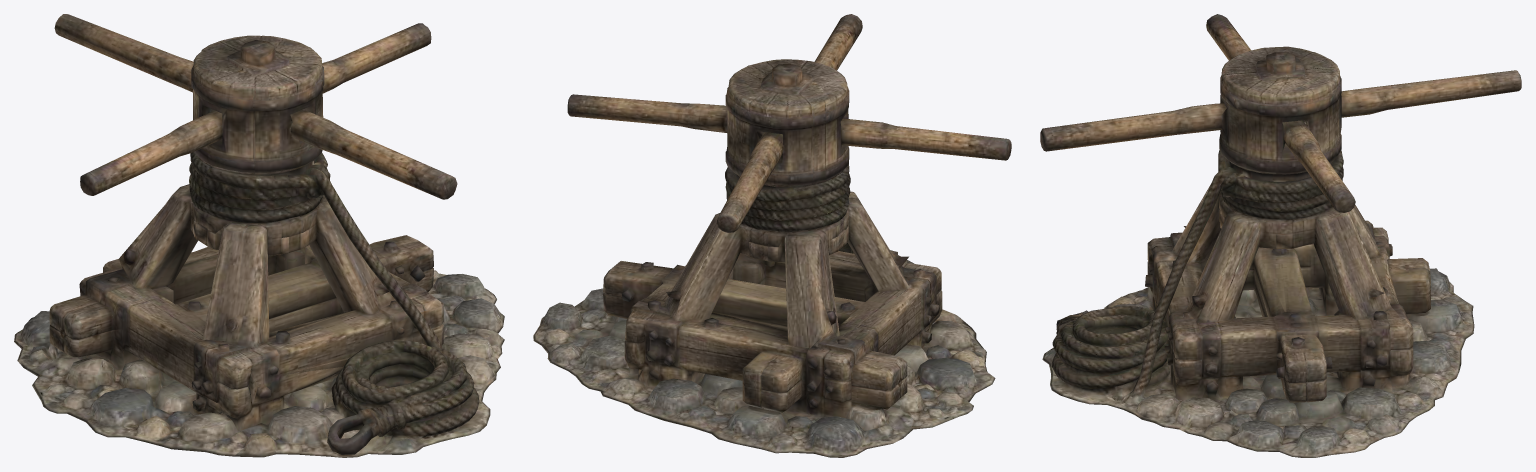
Rendered from kit_sf_capstan.glb.
3 views of the same model, side by side, from view 1: azimuth 30°, elevation 25°; view 2: azimuth 150°, elevation 25°; view 3: azimuth 270°, elevation 25° (orthographic). The views are drawn at different scales.
Visible parts, largest first — view 1: kit_sf_capstan; view 2: kit_sf_capstan; view 3: kit_sf_capstan.
Part boxes in pixels (x1,y1,x2,y2): kit_sf_capstan: (14, 14, 504, 457); kit_sf_capstan: (533, 14, 1011, 457); kit_sf_capstan: (1040, 14, 1521, 457).
Bounding box in the file's own units: 1.8 × 1.2 × 1.8.
1 material, 1 textured.
